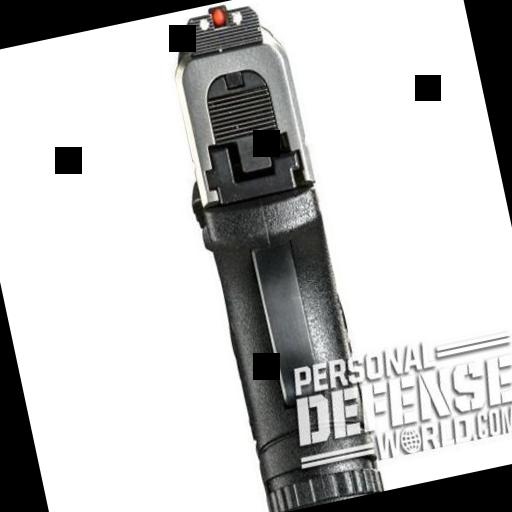Handgun: (128, 0, 400, 512)
